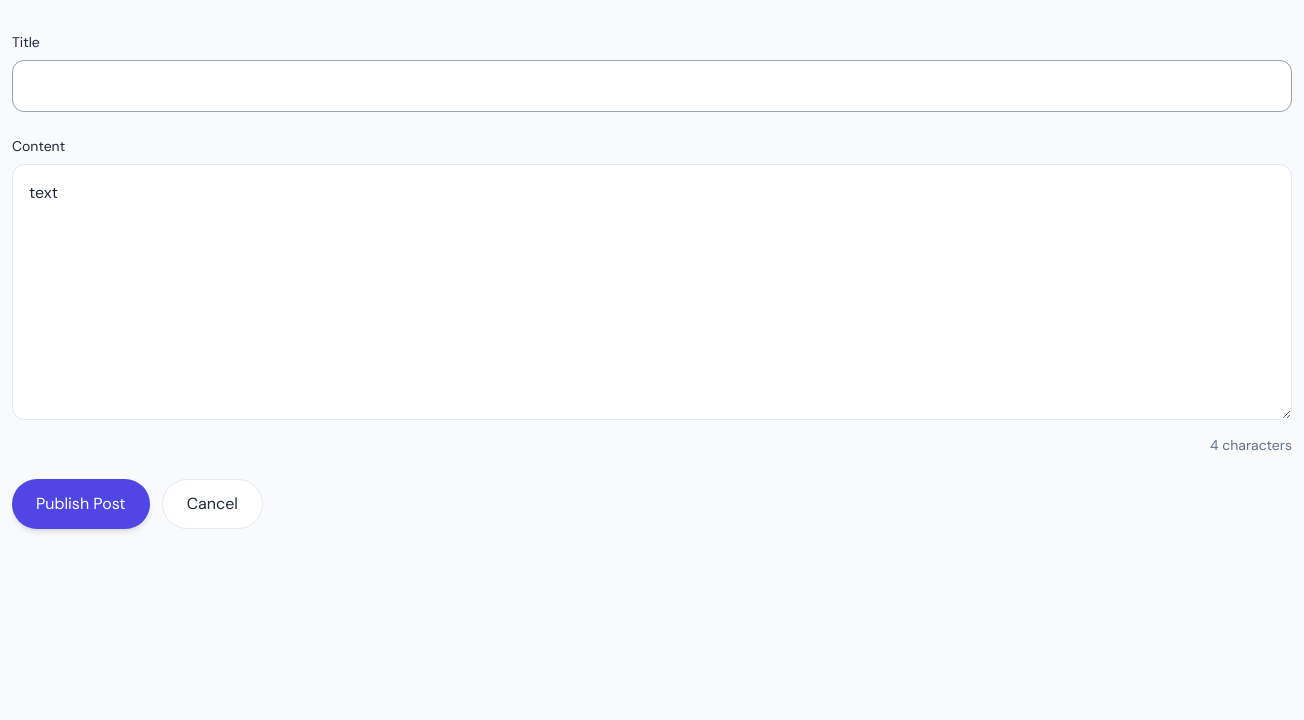
Test: rejects whitespace fields independently
Click the button "Publish Post".
click(81, 504)  # box [12, 479, 150, 529]
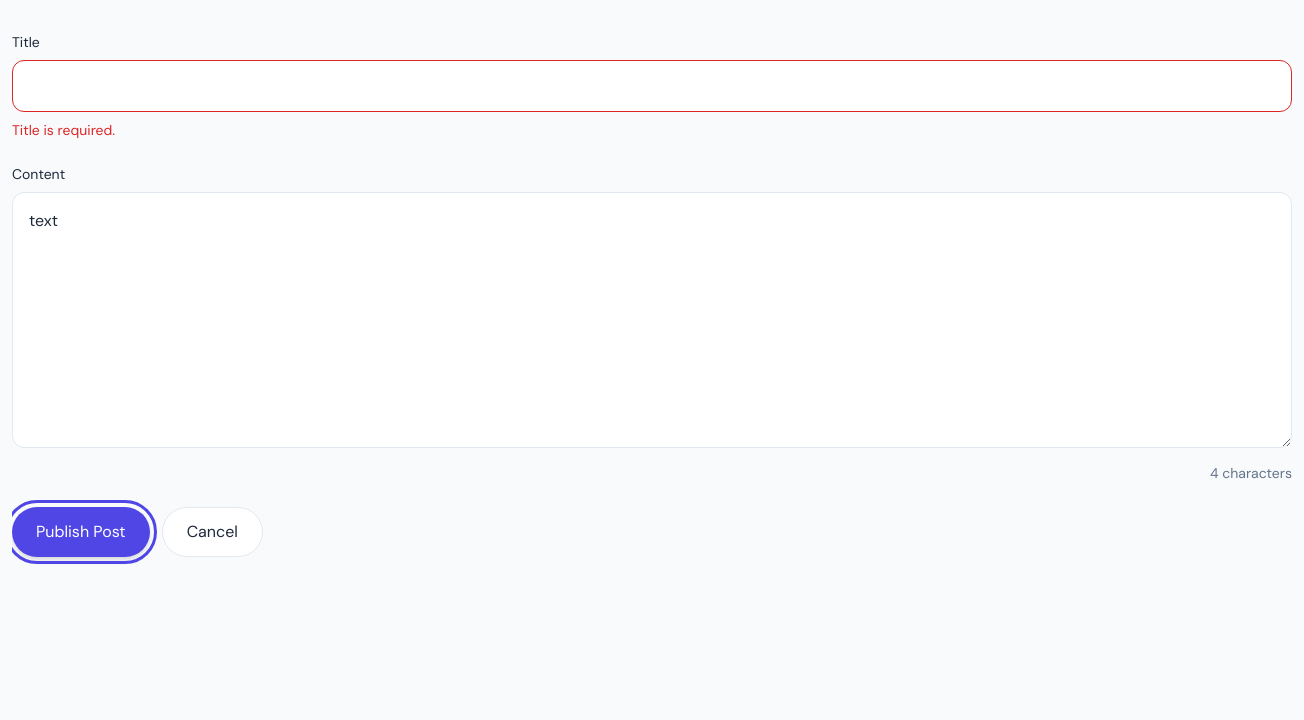
Now the message reads "Title is required.", box [12, 121, 115, 139]
